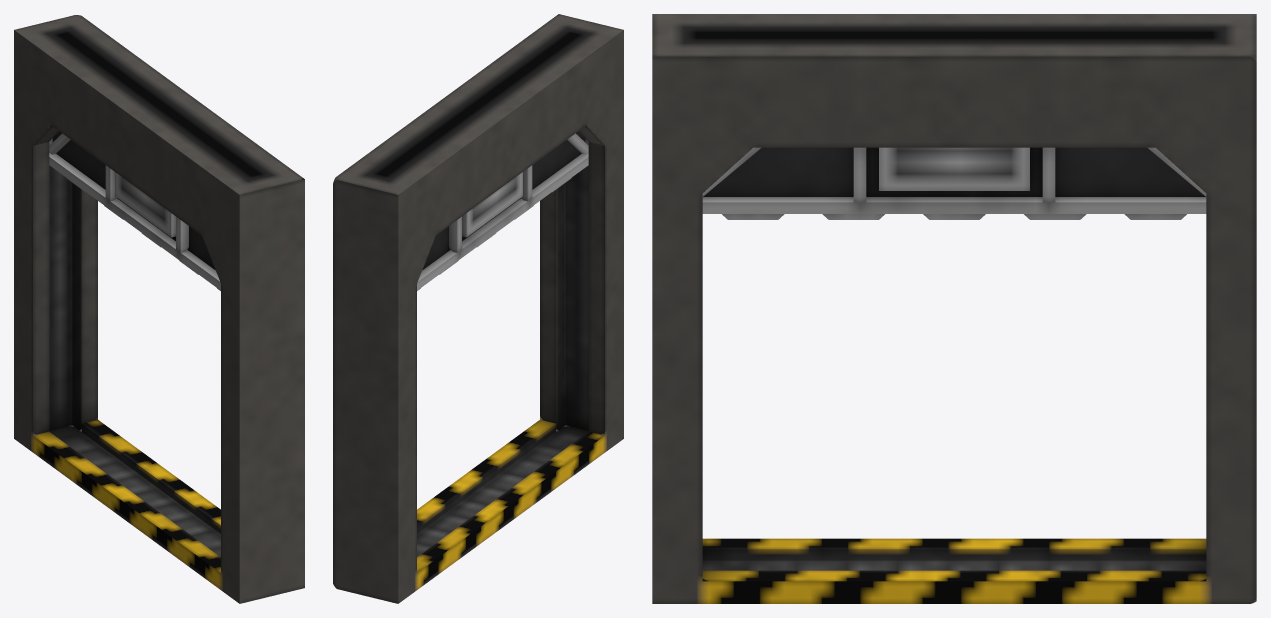
File: qe_containment_139.obj
3 renders of one model, left to right at view 1: azimuth 30°, elevation 25°; view 2: azimuth 150°, elevation 25°; view 3: azimuth 270°, elevation 25°, orthographic. The views are drawn at different scales.
Visible parts, largest first — view 1: Frame, Door; view 2: Frame, Door; view 3: Frame, Door.
Boxes of the visible parts, x1,y1,x2,y2 form: Frame: (14,15,304,603); Door: (49,131,220,290); Frame: (333,14,623,603); Door: (417,131,588,290); Frame: (652,14,1256,603); Door: (702,147,1206,219).
Size of the model in its own units: 0.5 by 3 by 3.
